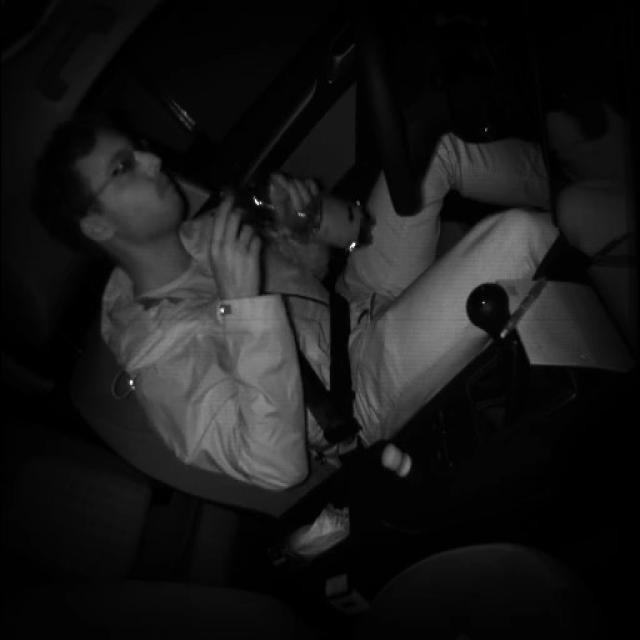pen: (498, 275, 548, 339)
